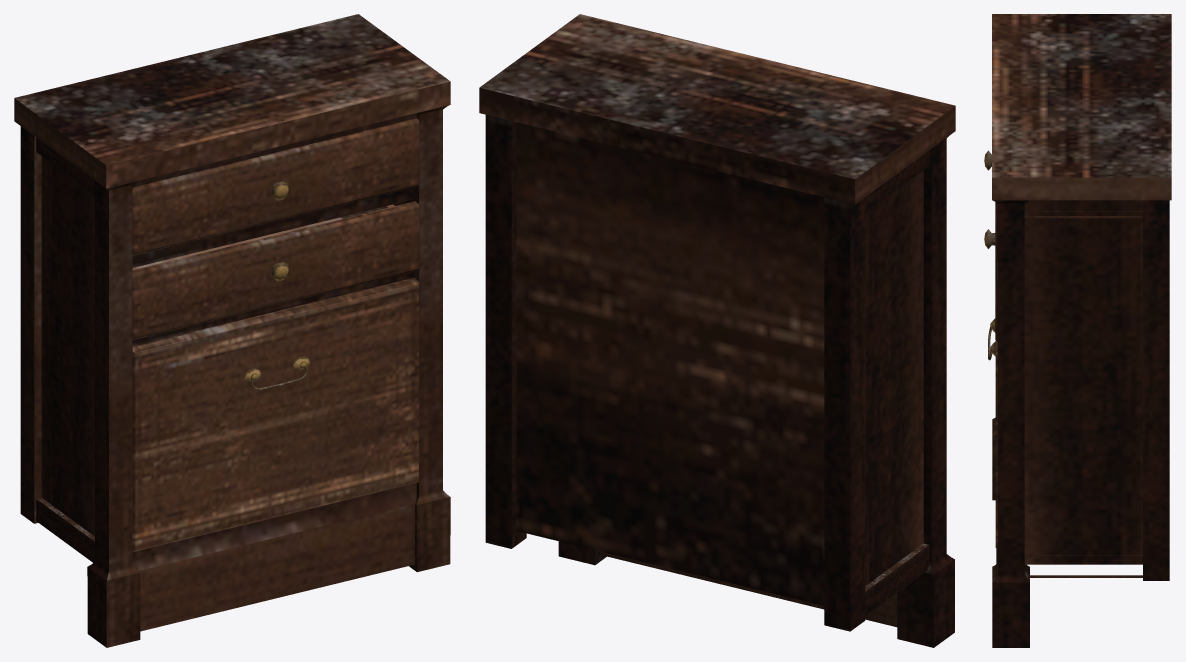
File: 141_Drawer.fbx
3 renders of one model, left to right at view 1: azimuth 30°, elevation 25°; view 2: azimuth 150°, elevation 25°; view 3: azimuth 270°, elevation 25°, orthographic. The views are drawn at different scales.
Parts seen in each view (by area): view 1: LOD_1_Group_0_Sub_1__sm60_007_Drawer01A_B_Mat; view 2: LOD_1_Group_0_Sub_1__sm60_007_Drawer01A_B_Mat; view 3: LOD_1_Group_0_Sub_1__sm60_007_Drawer01A_B_Mat.
Part boxes in pixels (x1,y1,x2,y2): LOD_1_Group_0_Sub_1__sm60_007_Drawer01A_B_Mat: [14, 14, 450, 647]; LOD_1_Group_0_Sub_1__sm60_007_Drawer01A_B_Mat: [479, 14, 955, 647]; LOD_1_Group_0_Sub_1__sm60_007_Drawer01A_B_Mat: [984, 14, 1171, 647].
Size of the model in its own units: 0.7182 by 0.9622 by 0.3474.
